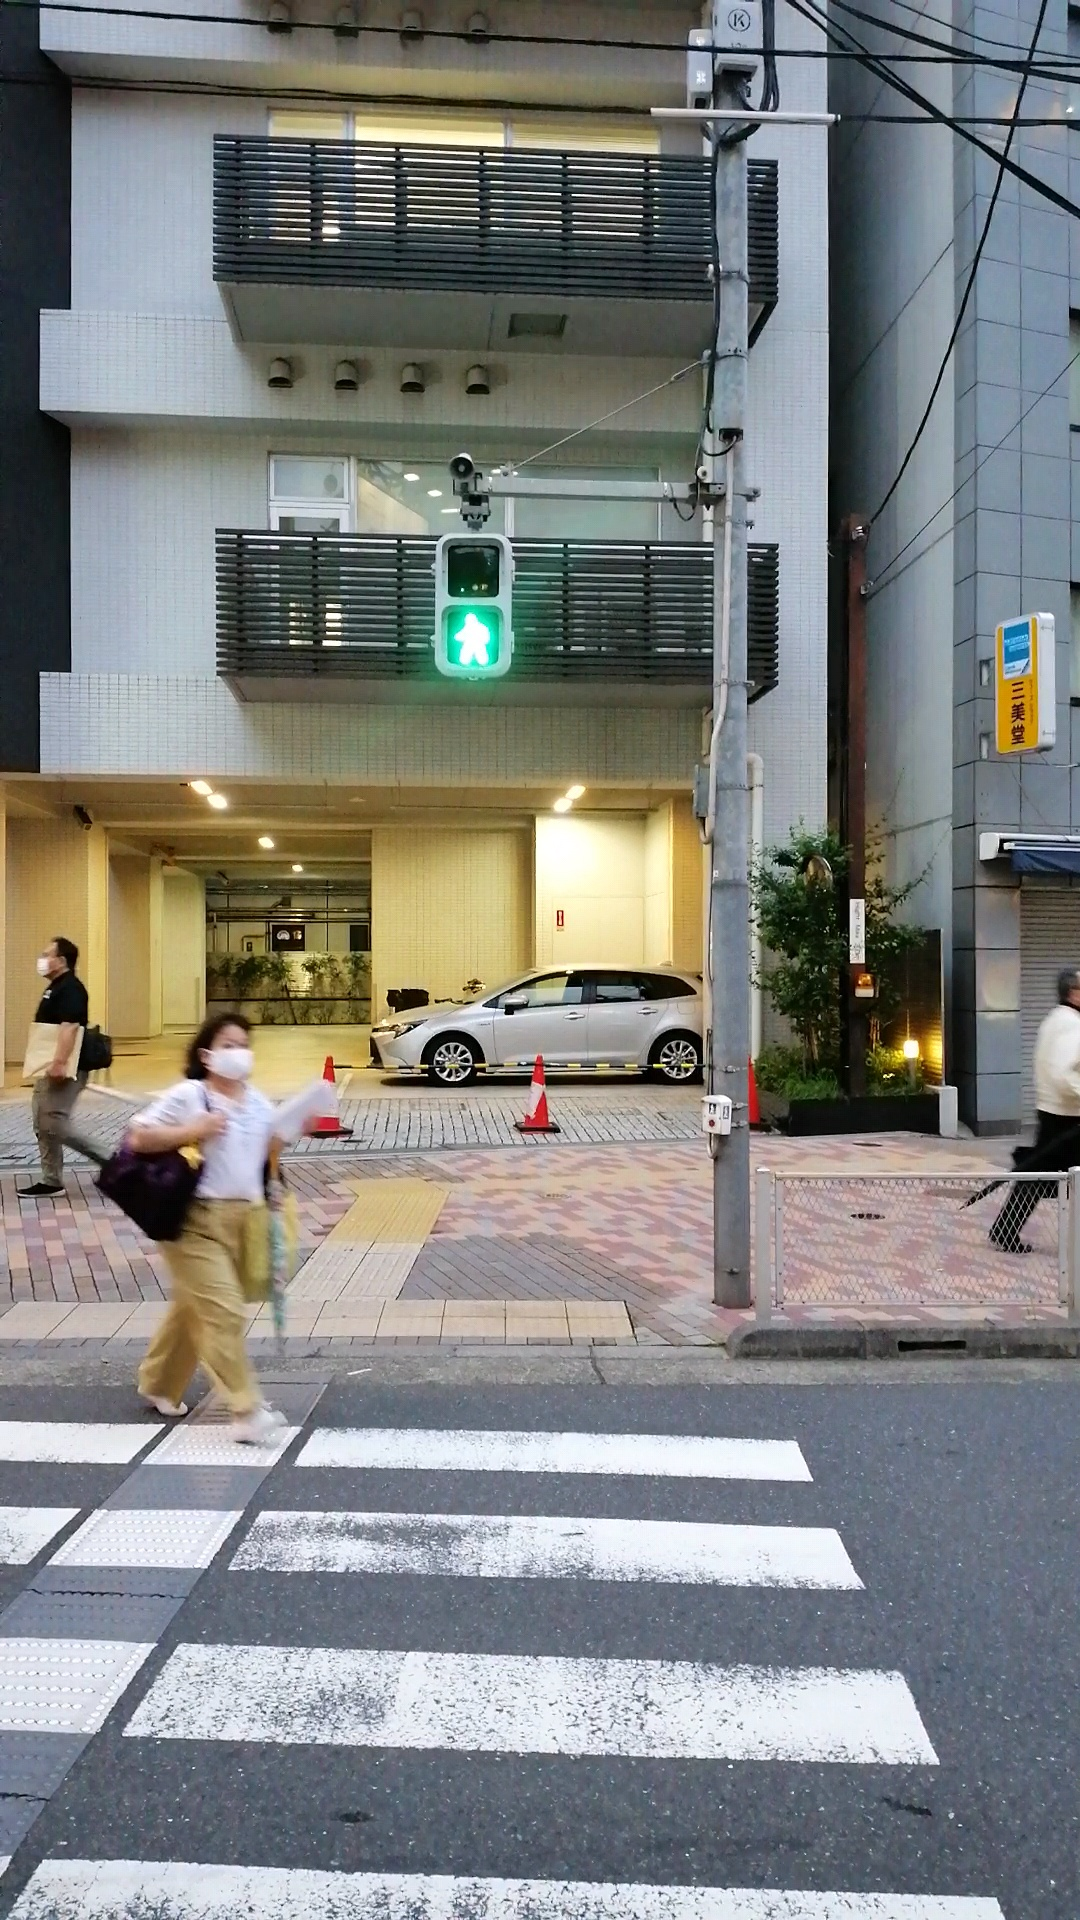green: (435, 531, 510, 676)
